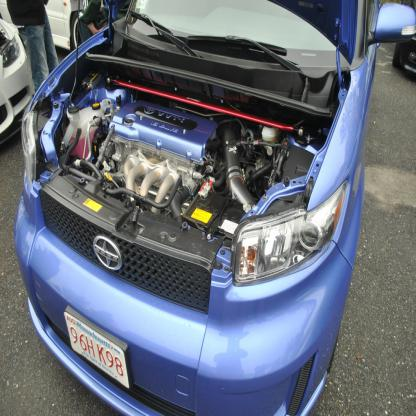Car: (11, 0, 415, 415), (0, 1, 86, 50), (0, 19, 33, 144), (392, 0, 415, 74)
